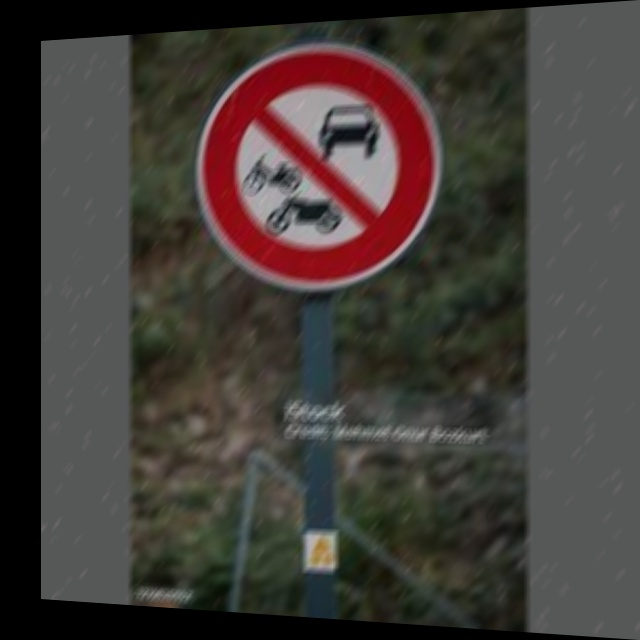All_Motor_Vehicles_Prohibited: (195, 32, 437, 288)
